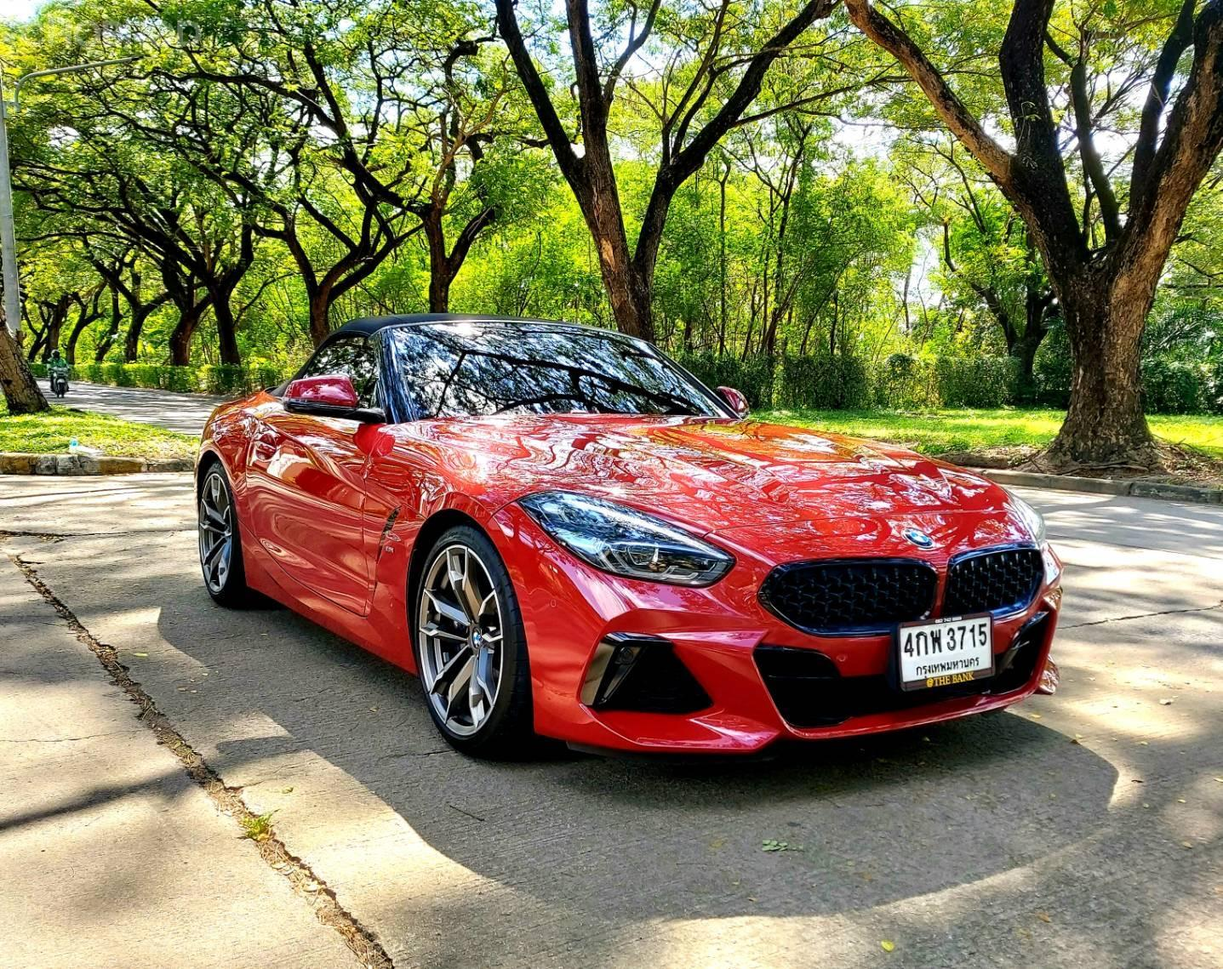license-plate: (892, 613, 999, 696)
